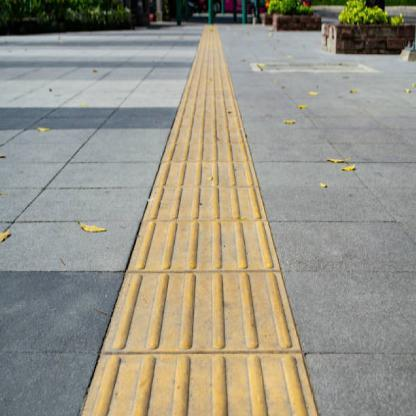podotacti: (83, 32, 320, 412)
